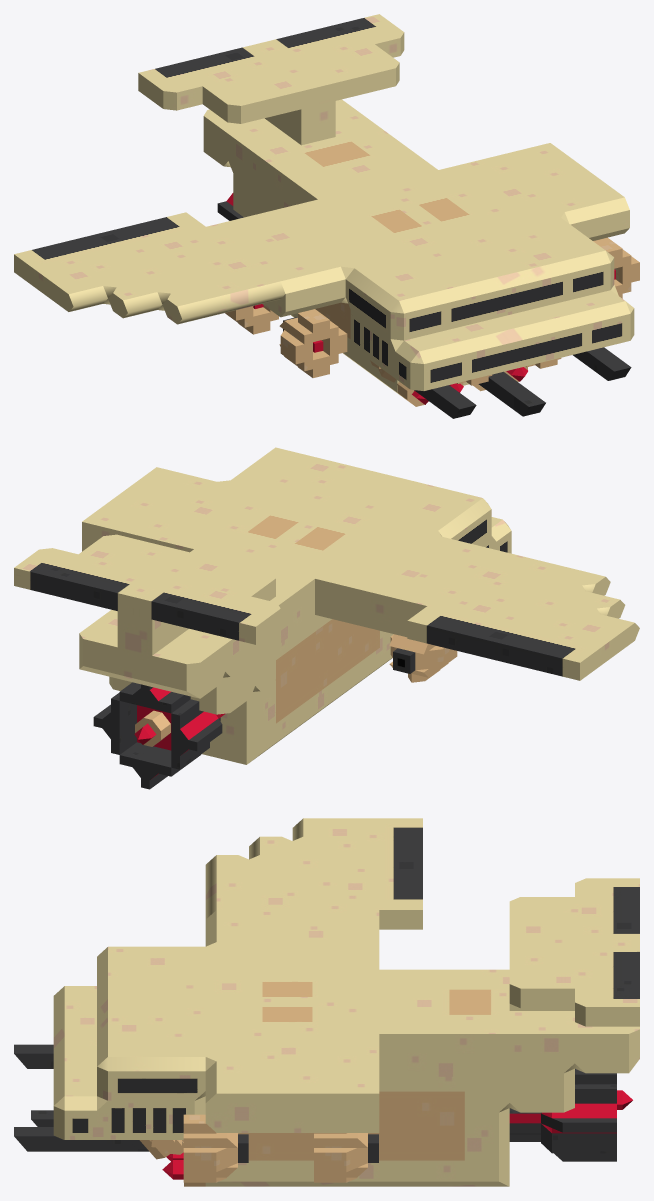
File: remain plane.FBX
The picture shows the model from 3 angles, top to bottom: view 1: azimuth 30°, elevation 25°; view 2: azimuth 150°, elevation 25°; view 3: azimuth 270°, elevation 25°; orthographic projection. The views are drawn at different scales.
Visible parts, largest first — view 1: Box004, Box011, Object004, Box033, Box040, Box028; view 2: Box004, Box027, Box040, Box028; view 3: Box004, Box027, Object004, Box011, Box040, Box028.
Part boxes in pixels (x1,y1,x2,y2): Box004: (14, 14, 634, 398); Box011: (279, 237, 639, 377); Object004: (370, 347, 631, 418); Box033: (478, 371, 545, 416); Box040: (225, 305, 278, 334); Box028: (397, 366, 527, 406); Box004: (14, 447, 639, 764); Box027: (93, 682, 225, 789); Box040: (389, 634, 457, 682); Box028: (134, 658, 392, 746); Box004: (53, 818, 639, 1186); Box027: (509, 1069, 616, 1161); Object004: (14, 1044, 183, 1159); Box011: (183, 1114, 248, 1182); Box040: (314, 1133, 378, 1182); Box028: (162, 1090, 632, 1186).
Size of the model in its own units: 900 by 330 by 865.
1 material, 1 textured.
